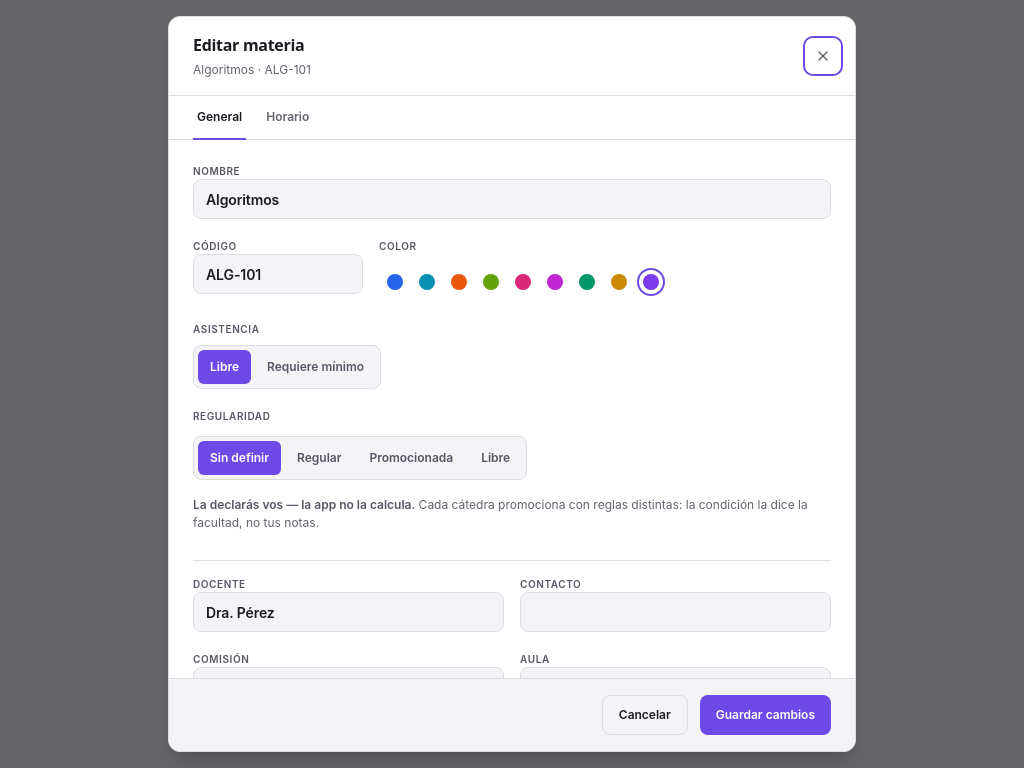
Scenario: EditarMateriaModal › switches to the Horario tab and shows the shared SlotEditor pre-filled with existing slots
The image size is (1024, 768).
Click the tab "Horario" at (288, 118), box top-left (262, 96), bottom-right (313, 140)
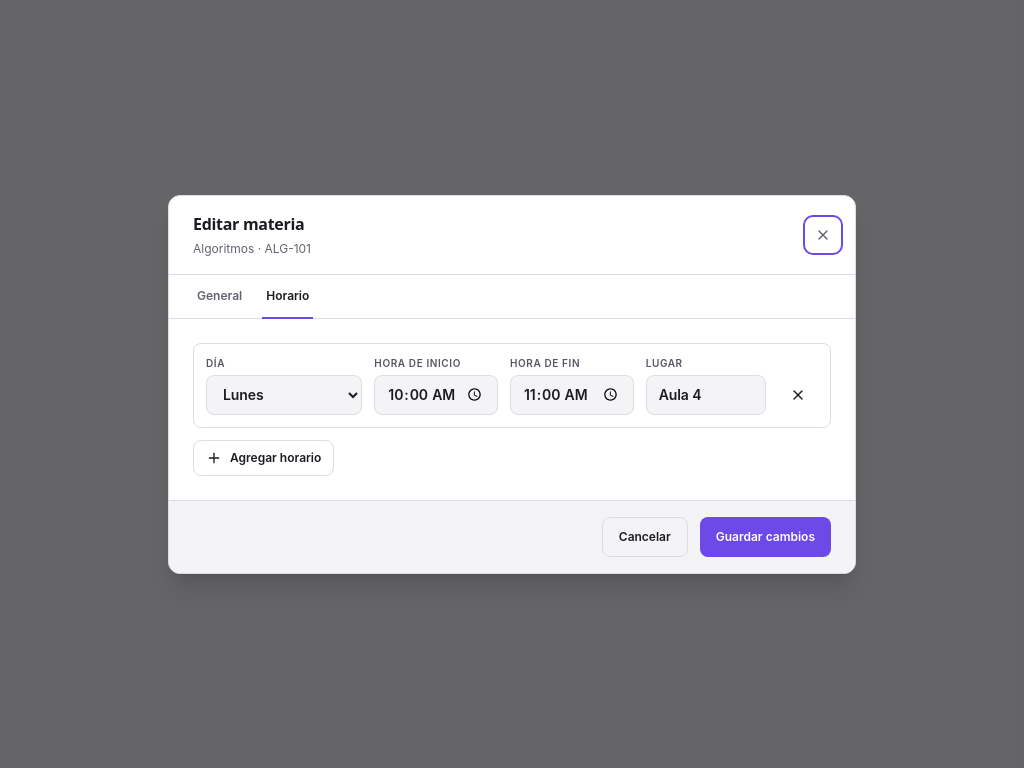
Check: the time field labelled "HORA DE INICIO" holds "10:00", box top-left (374, 374), bottom-right (498, 414)
